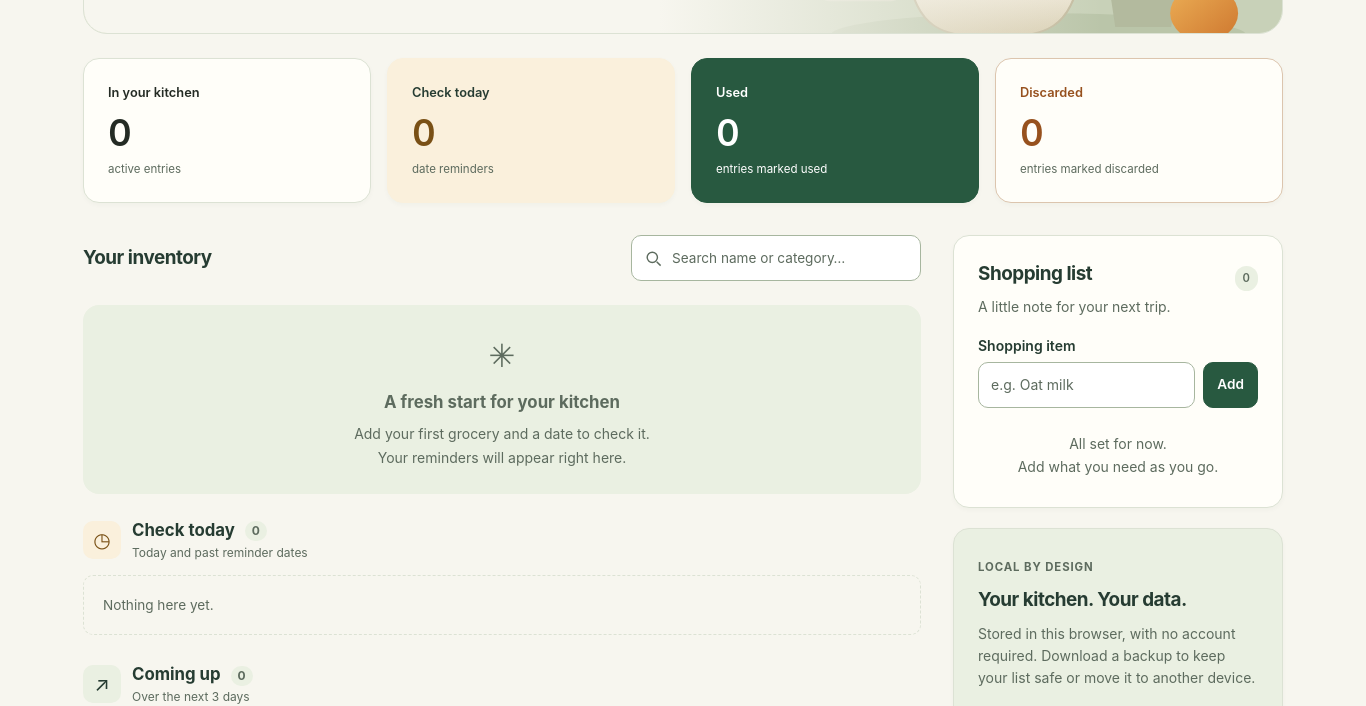
Test: kitchen workflow › prevents a stale tab from overwriting a newer inventory
(page scrolled)
Type "Oats" into the field labelled "Shopping item" at coordinates (1087, 385), box [978, 362, 1195, 408]
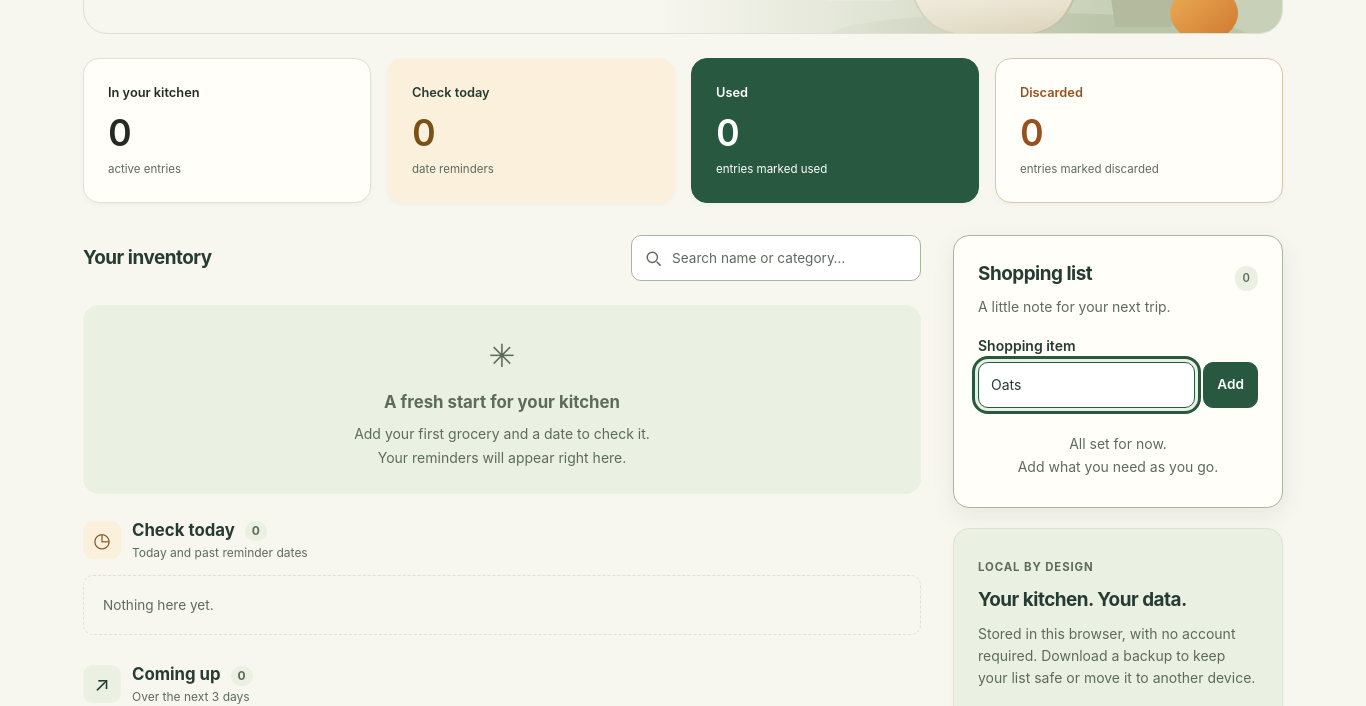
Click the button "Add" at coordinates (1231, 385), box [1203, 362, 1258, 408]
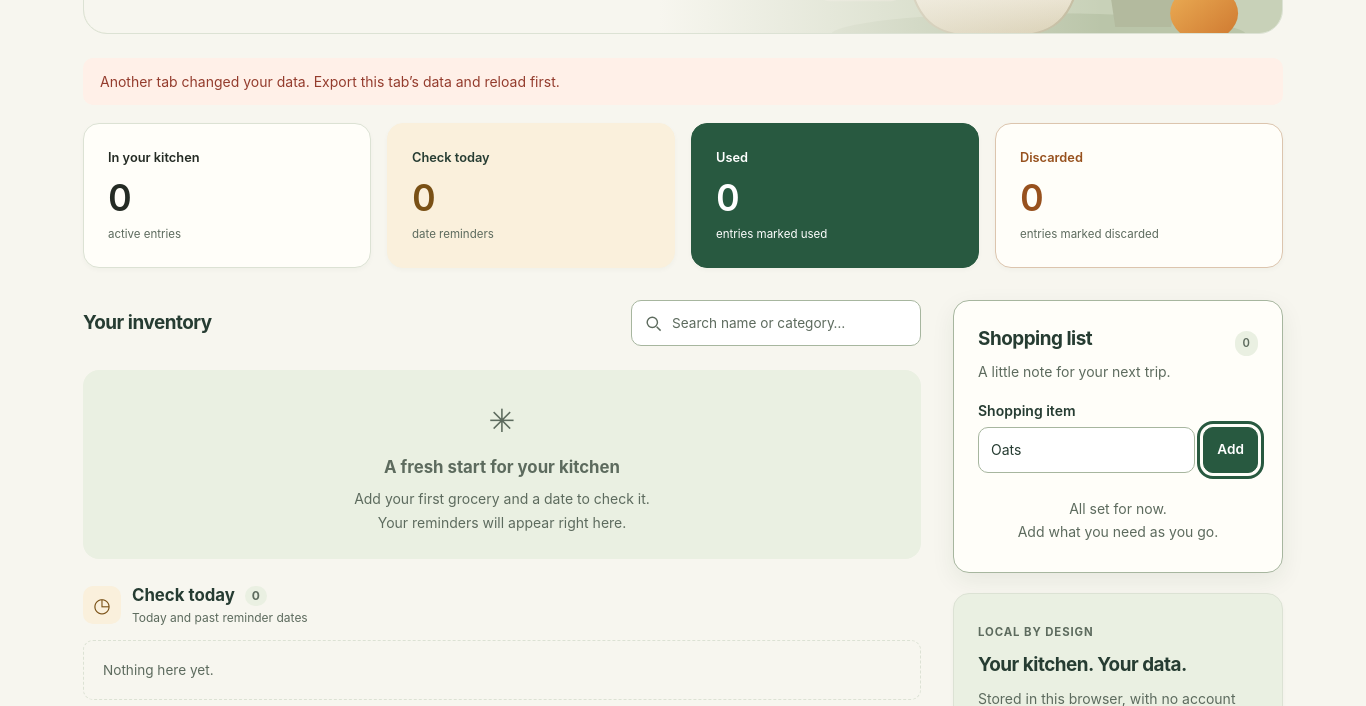
expect the message shows "Another tab": met, box [100, 73, 560, 90]
